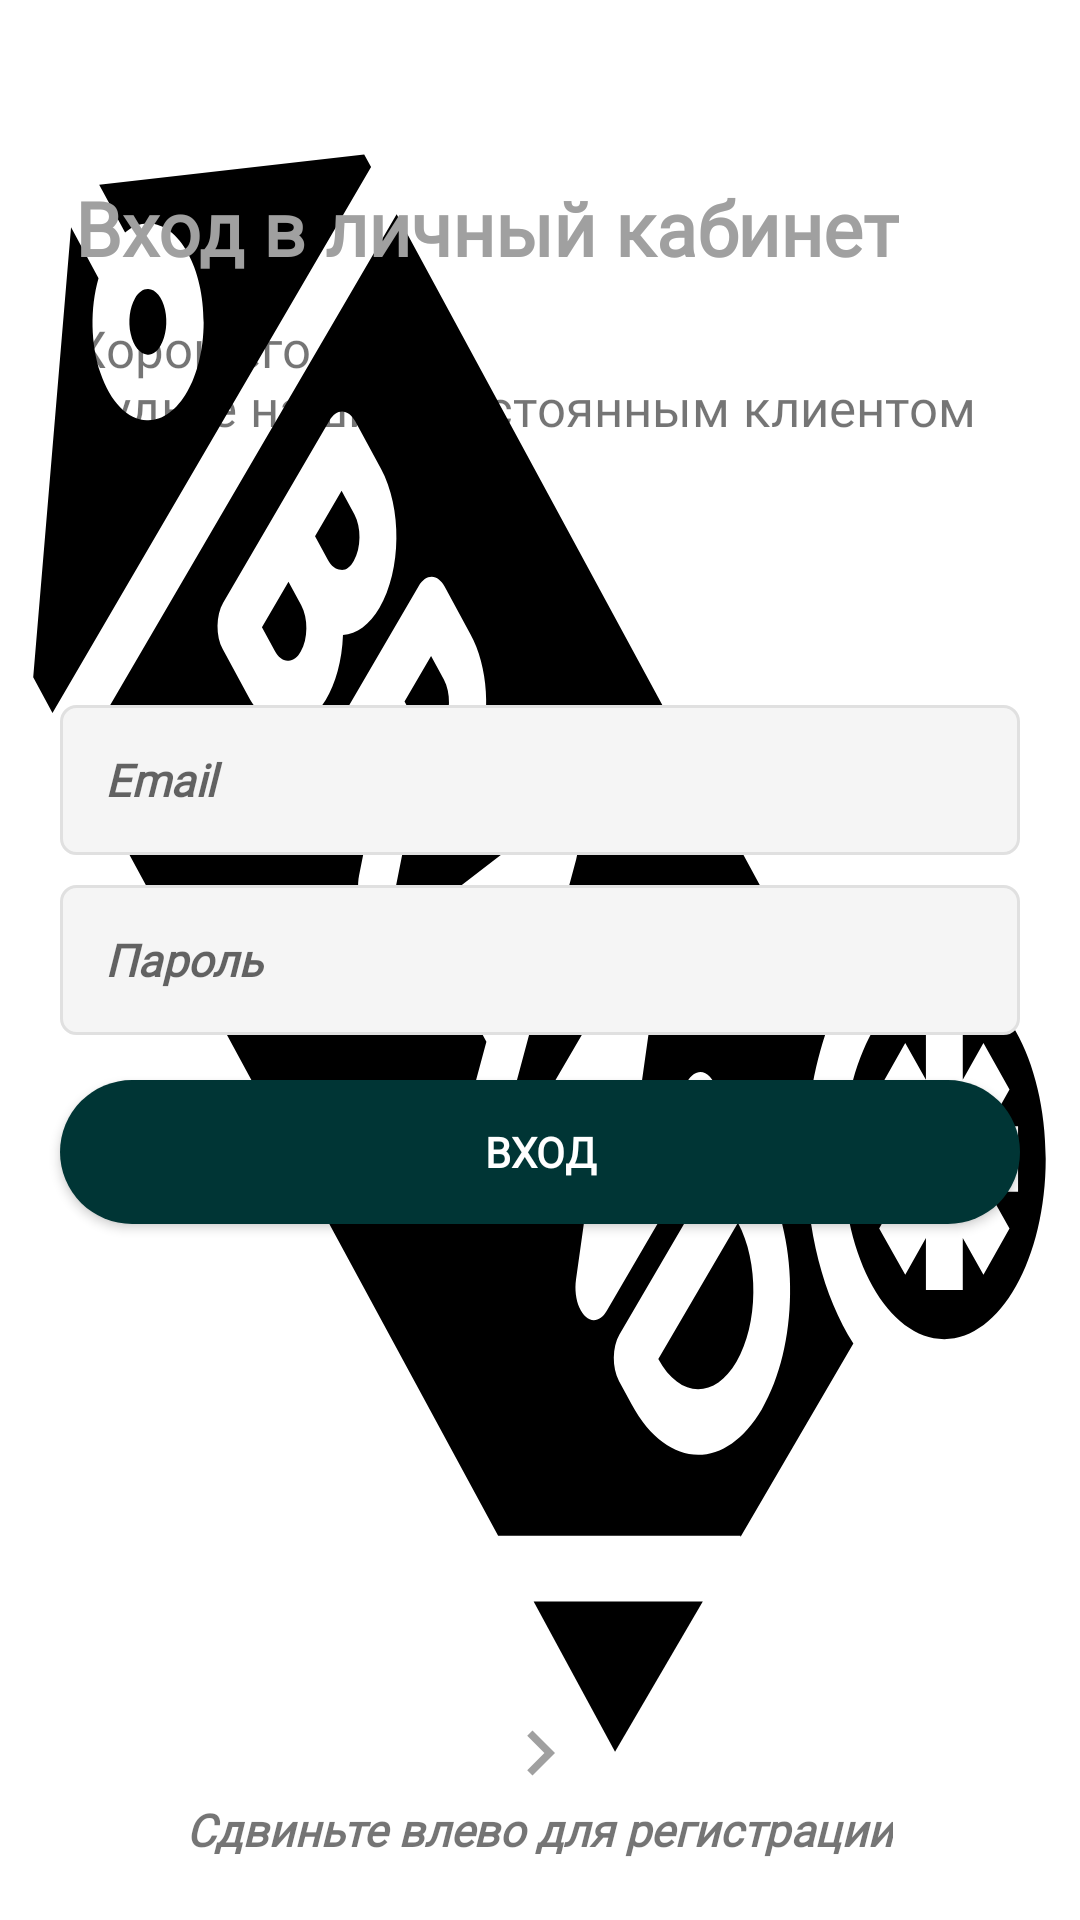

Screen size 1080 × 1920. Icon name, then its box in pixels as region(x1, y1, x2, y2):
arrow right: region(527, 1731, 555, 1776)
